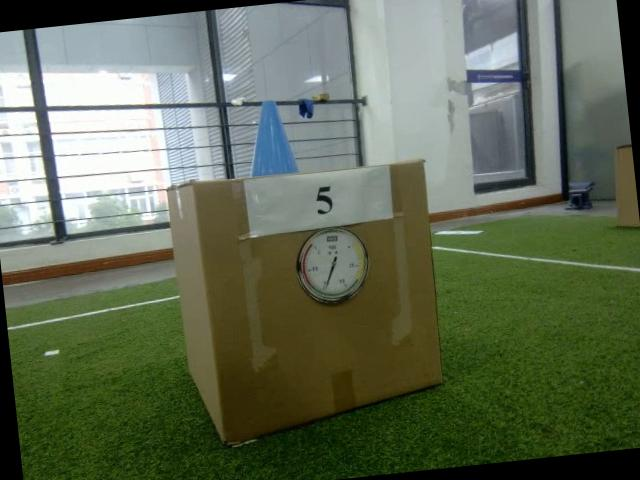5: (311, 182, 337, 218)
Dashboard: (292, 224, 372, 311)
blue_barrel: (242, 98, 300, 180)
ssi: (324, 234, 338, 244)
